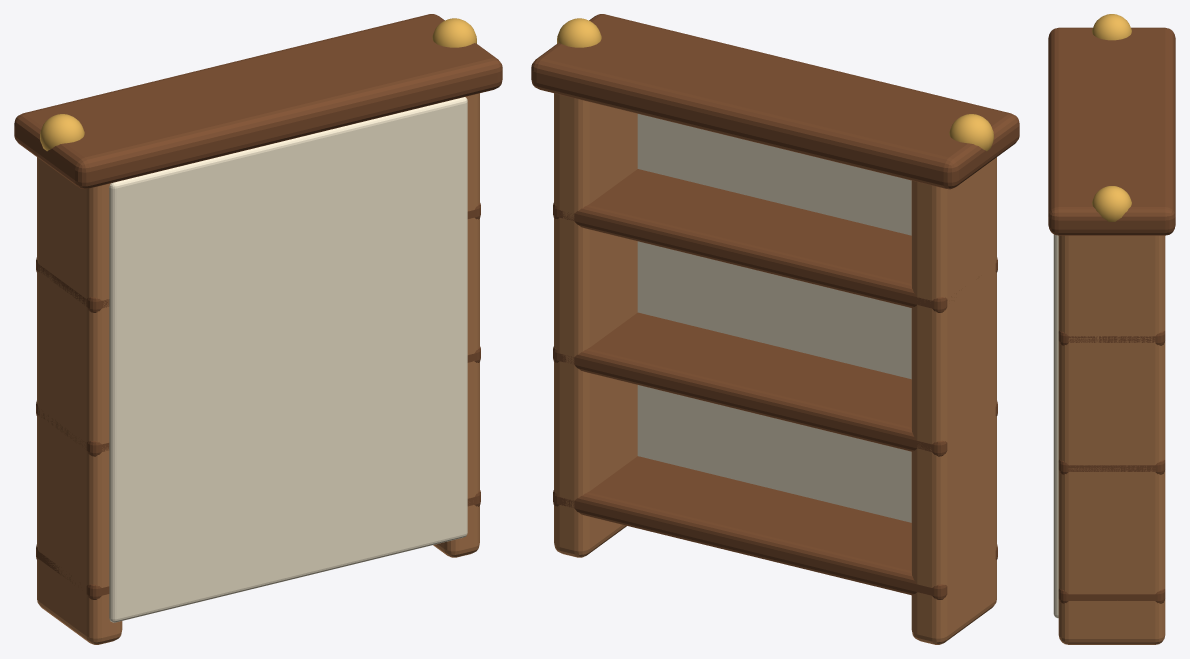
Rendered from ui-shelf.glb.
3 views of the same model, side by side, from view 1: azimuth 30°, elevation 25°; view 2: azimuth 150°, elevation 25°; view 3: azimuth 270°, elevation 25° (orthographic). The views are drawn at different scales.
Visible parts, largest first — view 1: UI · shelf back panel, UI · shelf crown, UI · shelf side -1, UI · shelf side 1, UI · shelf finial -1, UI · shelf finial 1, UI · shelf board 2; view 2: UI · shelf back panel, UI · shelf crown, UI · shelf side -1, UI · shelf side 1, UI · shelf board 0, UI · shelf board 2, UI · shelf board 1, UI · shelf finial -1, UI · shelf finial 1; view 3: UI · shelf side 1, UI · shelf crown, UI · shelf back panel, UI · shelf finial 1, UI · shelf board 0, UI · shelf board 1, UI · shelf board 2, UI · shelf finial -1.
Boxes of the visible parts, <box> form: UI · shelf back panel: <box>109,97,467,622</box>; UI · shelf crown: <box>14,14,502,189</box>; UI · shelf side -1: <box>37,157,122,644</box>; UI · shelf side 1: <box>433,93,479,557</box>; UI · shelf finial -1: <box>40,114,84,151</box>; UI · shelf finial 1: <box>432,18,476,47</box>; UI · shelf board 2: <box>36,202,480,312</box>; UI · shelf back panel: <box>637,114,911,522</box>; UI · shelf crown: <box>531,14,1019,189</box>; UI · shelf side -1: <box>911,157,996,644</box>; UI · shelf side 1: <box>554,93,637,557</box>; UI · shelf board 0: <box>553,456,997,599</box>; UI · shelf board 2: <box>553,169,997,312</box>; UI · shelf board 1: <box>553,312,997,456</box>; UI · shelf finial -1: <box>949,114,993,151</box>; UI · shelf finial 1: <box>557,18,601,47</box>; UI · shelf side 1: <box>1058,235,1165,644</box>; UI · shelf crown: <box>1048,27,1175,235</box>; UI · shelf back panel: <box>1053,234,1058,618</box>; UI · shelf finial 1: <box>1092,186,1131,221</box>; UI · shelf board 0: <box>1058,589,1165,603</box>; UI · shelf board 1: <box>1058,460,1165,474</box>; UI · shelf board 2: <box>1058,331,1165,345</box>; UI · shelf finial -1: <box>1092,14,1131,40</box>.
Size of the model in its own units: 1.76 by 2 by 0.5.
